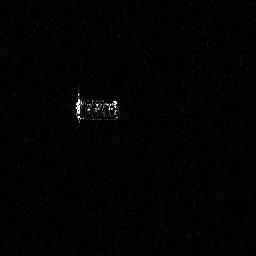ship: (72, 88, 121, 126)
